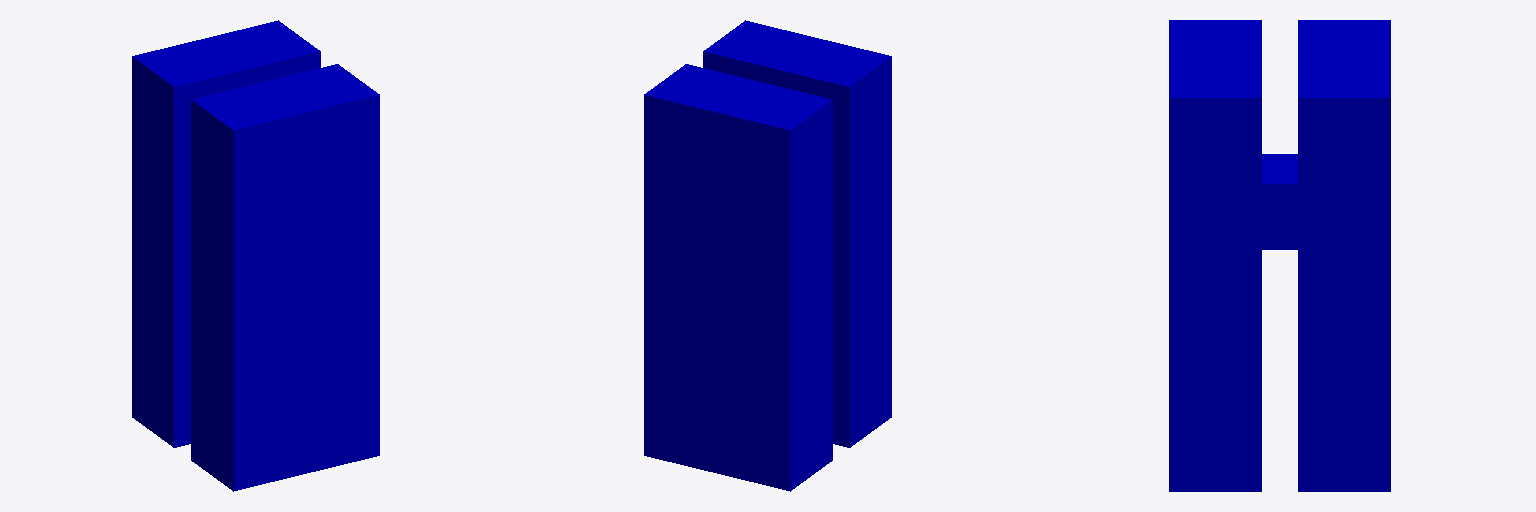
robot.urdf — slider:
<?xml version="1.0"?>
<robot name="slider" xmlns:xacro="http://www.ros.org/wiki/xacro">

<material name="blue">
    <color rgba="0 0 0.8 1"/>
  </material>
  <material name="black">
    <color rgba="0 0 0 1"/>
  </material>
  <material name="white">
    <color rgba="1 1 1 1"/>
  </material>

  <link name="base_link">
    <visual>
      <geometry>
        <box size = "0.152 0.178 0.16"/>
      </geometry>
      <material name="blue"/>
      <origin rpy="0 0 0" xyz="0 0 0.6"/>
    </visual>
    <collision>
      <geometry>
        <box size = "0.152 0.178 0.16"/>
      </geometry>
      <origin rpy="0 0 0" xyz="0 0 0.6"/>
    </collision>
    <inertial>
      <origin xyz="-0.016 -0.009 0.6" rpy="0 0 0"/>
      <mass value="2.8488"/>
      <inertia ixx="1.0" ixy="0.0" ixz="0.0" iyy="1.0" iyz="0.0" izz="1.0"/>
    </inertial>
  </link>

  <link name="left_base">
    <visual>	
      <geometry>
        <cylinder radius="0.02" length="0.01"/>
      </geometry>
      <material name="white"/>
      <origin rpy="1.57 0 0" xyz="0 0 0"/>
    </visual>
    <collision>
      <geometry>
        <cylinder radius="0.02" length="0.01"/>
      </geometry>
      <origin rpy="1.57 0 0" xyz="0 0 0"/>
    </collision>
    <inertial>
      <mass value="0.001"/>
      <inertia ixx="1.0" ixy="0.0" ixz="0.0" iyy="1.0" iyz="0.0" izz="1.0"/>
    </inertial>
  </link>

  <joint name="left_base_joint" type="revolute">
  	<axis xyz="0 1 0"/>
    <limit effort="1000.0" lower="-1.5707" upper="1.5707" velocity="0.5"/>
    <origin rpy="0 0 0" xyz="0 -0.05 0.6"/>
    <parent link="base_link"/>
    <child link="left_base"/>
  </joint>

  <link name="left_leg">
    <visual>
      <geometry>
        <box size = "0.4 0.2 0.942"/>
      </geometry>
      <origin rpy="0 0 0" xyz="0 0 0"/>
      <material name="blue"/>
    </visual>
    <collision>
      <geometry>
        <box size = "0.4 0.2 0.942"/>
      </geometry>
      <origin rpy="0 0 0" xyz="0 0 0"/>
    </collision>
    <inertial>
      <origin xyz="0 0 0" rpy="0 0 0"/>
      <mass value="1.53572"/>
      <inertia ixx="1.0" ixy="0.0" ixz="0.0" iyy="1.0" iyz="0.0" izz="1.0"/>
    </inertial>
  </link>


  <joint name="base_to_left_leg" type="prismatic">
  	<axis xyz="0 0 1"/>
    <limit effort="1000.0" lower="-0.3" upper="0.3" velocity="0.5"/>
    <origin rpy="0 0 0" xyz="0 -0.1 -0.129"/>
    <parent link="left_base"/>
    <child link="left_leg"/>
  </joint>

  <link name="right_base">
    <visual>	
      <geometry>
        <cylinder radius="0.02" length="0.01"/>
      </geometry>
      <material name="white"/>
      <origin rpy="1.57 0 0" xyz="0 0 0"/>
    </visual>
    <collision>
      <geometry>
        <cylinder radius="0.02" length="0.01"/>
      </geometry>
      <origin rpy="1.57 0 0" xyz="0 0 0"/>
    </collision>
    <inertial>
      <mass value="0.001"/>
      <inertia ixx="1.0" ixy="0.0" ixz="0.0" iyy="1.0" iyz="0.0" izz="1.0"/>
    </inertial>
  </link>

  <joint name="right_base_joint" type="revolute">
  	<axis xyz="0 1 0"/>
    <limit effort="1000.0" lower="-1.5707" upper="1.5707" velocity="0.5"/>
    <origin rpy="0 0 0" xyz="0 0.03 0.6"/>
    <parent link="base_link"/>
    <child link="right_base"/>
  </joint>

  <link name="right_leg">
    <visual>
      <geometry>
        <box size = "0.4 0.2 0.942"/>
      </geometry>
      <origin rpy="0 0 0" xyz="0 0 0"/>
      <material name="blue"/>
    </visual>
    <collision>
      <geometry>
        <box size = "0.4 0.2 0.942"/>
      </geometry>
      <origin rpy="0 0 0" xyz="0 0 0"/>
    </collision>
    <inertial>
      <origin xyz="0 0 0" rpy="0 0 0"/>
      <mass value="1.53572"/>
      <inertia ixx="1.0" ixy="0.0" ixz="0.0" iyy="1.0" iyz="0.0" izz="1.0"/>
    </inertial>
  </link>


  <joint name="base_to_right_leg" type="prismatic">
  	<axis xyz="0 0 1"/>
    <limit effort="1000.0" lower="-0.3" upper="0.3" velocity="0.5"/>
    <origin rpy="0 0 0" xyz="0 0.1 -0.129"/>
    <parent link="right_base"/>
    <child link="right_leg"/>
  </joint>

</robot>

--- Facts derived from the render (not from the file) ---
The picture shows the robot from 3 angles, left to right: view 1: azimuth 30°, elevation 25°; view 2: azimuth 150°, elevation 25°; view 3: azimuth 270°, elevation 25°; orthographic projection.
Robot: slider — 5 links, 4 joints (2 revolute, 2 prismatic); root link base_link; default pose: all joints at 0.
Links seen in each view (by area): view 1: left_leg, right_leg; view 2: right_leg, left_leg; view 3: left_leg, right_leg, base_link.
Boxes of the visible links, bbox=[...] form: left_leg: bbox=[191, 64, 379, 491]; right_leg: bbox=[132, 20, 320, 447]; right_leg: bbox=[644, 64, 832, 491]; left_leg: bbox=[703, 20, 891, 447]; left_leg: bbox=[1169, 20, 1261, 491]; right_leg: bbox=[1298, 20, 1390, 491]; base_link: bbox=[1262, 154, 1297, 249].
Size in the robot's own frame: 0.4 by 0.48 by 0.942 metres.
Geometry: primitives only (box / cylinder / sphere), no mesh files.